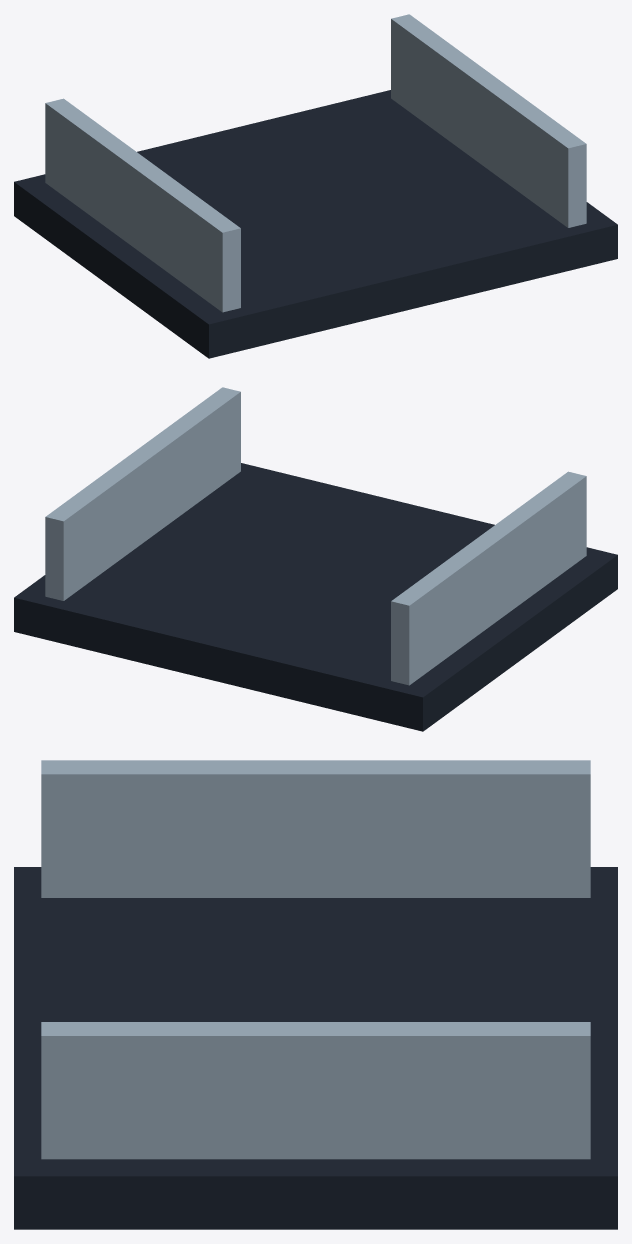
File: 63_L86_FailedRadiatorDisposalCradle.fbx
3 renders of one model, top to bottom at view 1: azimuth 30°, elevation 25°; view 2: azimuth 150°, elevation 25°; view 3: azimuth 270°, elevation 25°, orthographic. The views are drawn at different scales.
Parts seen in each view (by area): view 1: L86_FailedRadiatorDisposalCradle, L86_FailedRadiatorDisposalCradle_Part_0001; view 2: L86_FailedRadiatorDisposalCradle, L86_FailedRadiatorDisposalCradle_Part_0001; view 3: L86_FailedRadiatorDisposalCradle_Part_0001, L86_FailedRadiatorDisposalCradle.
Boxes of the visible parts, box(x1,y1,x2,y2) form: L86_FailedRadiatorDisposalCradle: box(14, 90, 617, 358); L86_FailedRadiatorDisposalCradle_Part_0001: box(45, 14, 586, 312); L86_FailedRadiatorDisposalCradle: box(14, 463, 617, 731); L86_FailedRadiatorDisposalCradle_Part_0001: box(45, 387, 586, 685); L86_FailedRadiatorDisposalCradle_Part_0001: box(41, 760, 590, 1159); L86_FailedRadiatorDisposalCradle: box(14, 867, 617, 1229).
Bounding box in the file's own units: 400 × 106 × 330.
